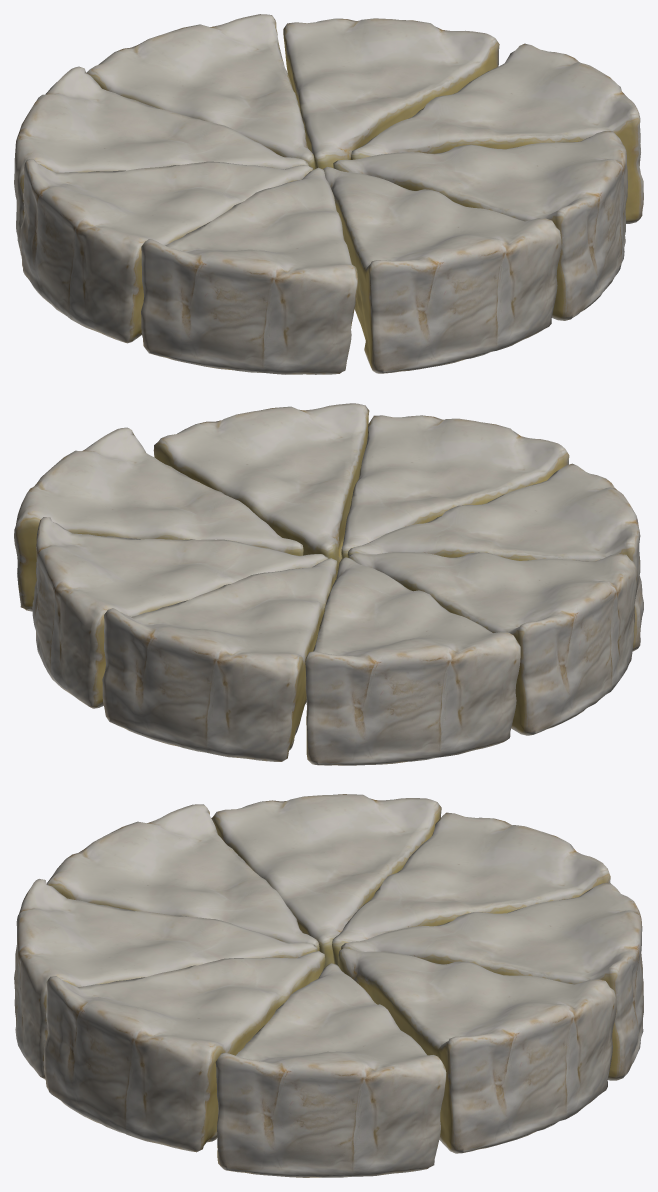
Rendered from Cheese.glb.
3 views of the same model, one above another, from view 1: azimuth 30°, elevation 25°; view 2: azimuth 150°, elevation 25°; view 3: azimuth 270°, elevation 25° (orthographic). The views are drawn at different scales.
Visible parts, largest first — view 1: FoodPlatter006_CheeseBrieWedge003, FoodPlatter006_CheeseBrieWedge008, FoodPlatter006_CheeseBrieWedge004, FoodPlatter006_CheeseBrieWedge007, FoodPlatter006_CheeseBrieWedge006, FoodPlatter006_CheeseBrieWedge005, FoodPlatter006_CheeseBrieWedge001, FoodPlatter006_CheeseBrieWedge002; view 2: FoodPlatter006_CheeseBrieWedge002, FoodPlatter006_CheeseBrieWedge001, FoodPlatter006_CheeseBrieWedge004, FoodPlatter006_CheeseBrieWedge006, FoodPlatter006_CheeseBrieWedge007, FoodPlatter006_CheeseBrieWedge005, FoodPlatter006_CheeseBrieWedge008, FoodPlatter006_CheeseBrieWedge003; view 3: FoodPlatter006_CheeseBrieWedge005, FoodPlatter006_CheeseBrieWedge007, FoodPlatter006_CheeseBrieWedge006, FoodPlatter006_CheeseBrieWedge004, FoodPlatter006_CheeseBrieWedge008, FoodPlatter006_CheeseBrieWedge001, FoodPlatter006_CheeseBrieWedge002, FoodPlatter006_CheeseBrieWedge003.
Part boxes in pixels (left/top/right/bottom): FoodPlatter006_CheeseBrieWedge003: left=141, top=167, right=357, bottom=374; FoodPlatter006_CheeseBrieWedge008: left=323, top=166, right=561, bottom=373; FoodPlatter006_CheeseBrieWedge004: left=20, top=159, right=313, bottom=343; FoodPlatter006_CheeseBrieWedge007: left=333, top=131, right=627, bottom=320; FoodPlatter006_CheeseBrieWedge006: left=283, top=18, right=499, bottom=169; FoodPlatter006_CheeseBrieWedge005: left=350, top=43, right=643, bottom=223; FoodPlatter006_CheeseBrieWedge001: left=86, top=14, right=314, bottom=169; FoodPlatter006_CheeseBrieWedge002: left=14, top=66, right=308, bottom=254; FoodPlatter006_CheeseBrieWedge002: left=305, top=557, right=520, bottom=765; FoodPlatter006_CheeseBrieWedge001: left=102, top=558, right=337, bottom=761; FoodPlatter006_CheeseBrieWedge004: left=349, top=552, right=638, bottom=735; FoodPlatter006_CheeseBrieWedge006: left=32, top=517, right=328, bottom=708; FoodPlatter006_CheeseBrieWedge007: left=153, top=403, right=369, bottom=576; FoodPlatter006_CheeseBrieWedge005: left=14, top=427, right=303, bottom=611; FoodPlatter006_CheeseBrieWedge008: left=341, top=415, right=569, bottom=558; FoodPlatter006_CheeseBrieWedge003: left=347, top=463, right=643, bottom=651; FoodPlatter006_CheeseBrieWedge005: left=215, top=963, right=446, bottom=1177; FoodPlatter006_CheeseBrieWedge007: left=43, top=951, right=325, bottom=1152; FoodPlatter006_CheeseBrieWedge006: left=338, top=948, right=616, bottom=1153; FoodPlatter006_CheeseBrieWedge004: left=211, top=794, right=441, bottom=967; FoodPlatter006_CheeseBrieWedge008: left=14, top=879, right=317, bottom=1079; FoodPlatter006_CheeseBrieWedge001: left=341, top=882, right=643, bottom=1080; FoodPlatter006_CheeseBrieWedge002: left=332, top=812, right=610, bottom=966; FoodPlatter006_CheeseBrieWedge003: left=46, top=804, right=319, bottom=951.
Bounding box in the file's own units: 0.1892 × 0.0372 × 0.1818.
Materials: 1 (1 with a texture image).
